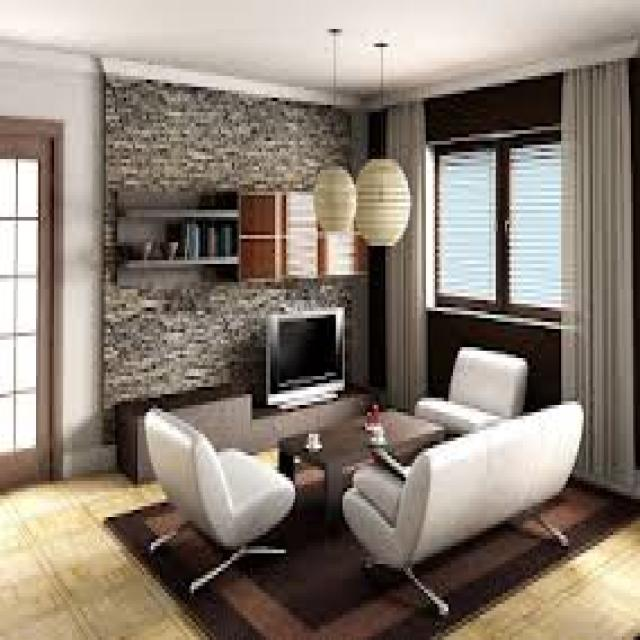Chair: (121, 392, 292, 606), (412, 340, 532, 442)
Lamp: (315, 151, 413, 259)
Sofa: (335, 390, 607, 615)
Table: (282, 393, 442, 516)
